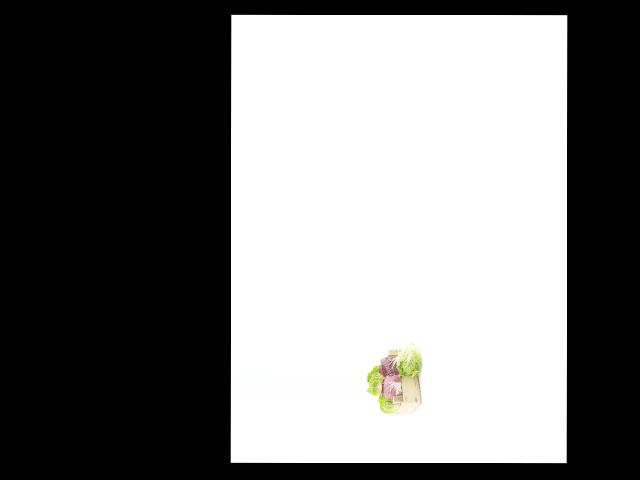lettuce: (366, 365, 387, 396)
